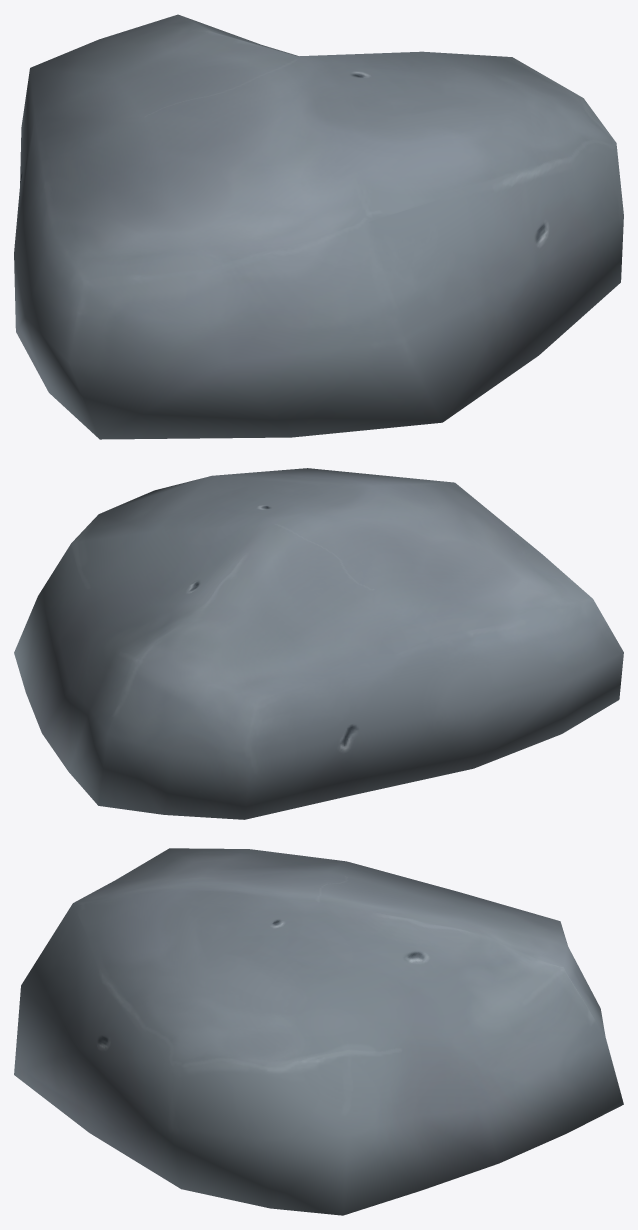
File: Stone1.dae
3 renders of one model, top to bottom at view 1: azimuth 30°, elevation 25°; view 2: azimuth 150°, elevation 25°; view 3: azimuth 270°, elevation 25°, orthographic. The views are drawn at different scales.
Parts seen in each view (by area): view 1: Cube; view 2: Cube; view 3: Cube.
Part boxes in pixels (x1=…): Cube: x1=14, y1=14, x2=623, y2=439; Cube: x1=14, y1=468, x2=623, y2=819; Cube: x1=14, y1=848, x2=623, y2=1215.
Size of the model in its own units: 4.32 by 4.26 by 1.45.
